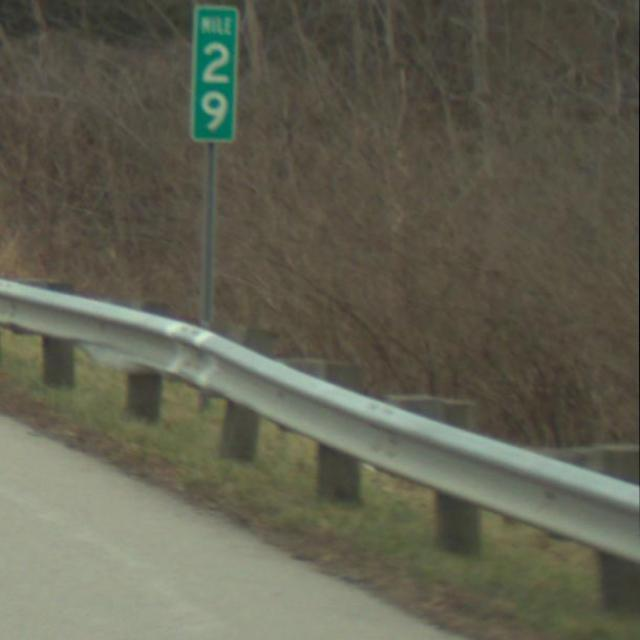Guard rail: (0, 269, 640, 620)
